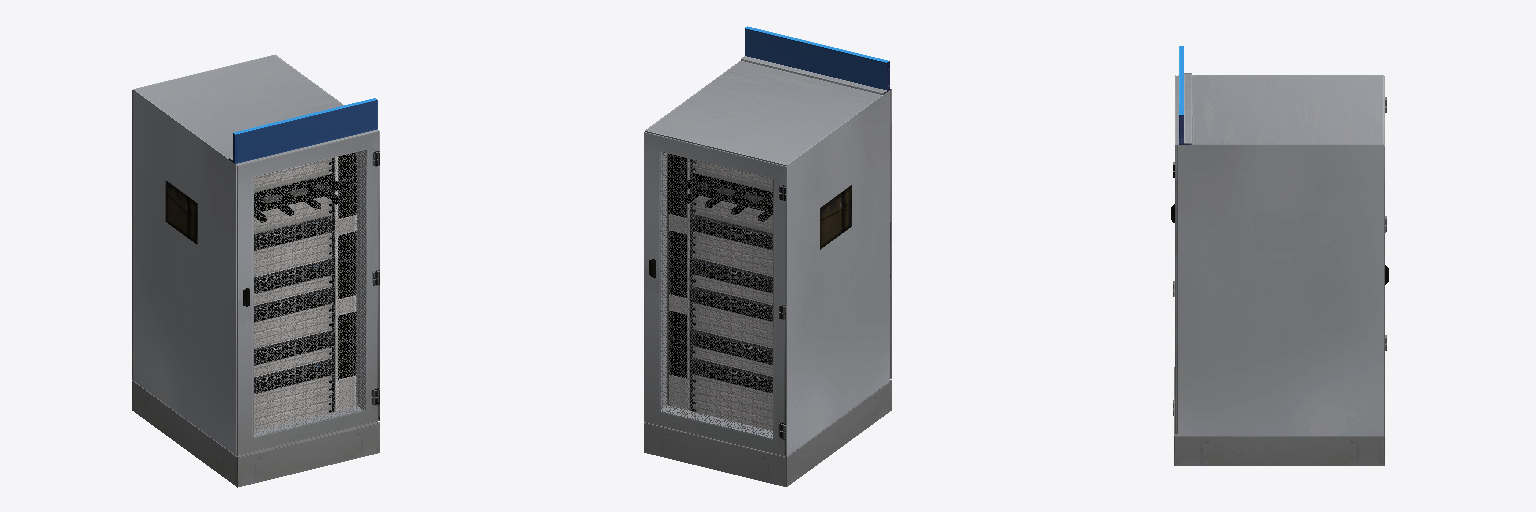
3 renders of one model, left to right at view 1: azimuth 30°, elevation 25°; view 2: azimuth 150°, elevation 25°; view 3: azimuth 270°, elevation 25°, orthographic.
Visible parts, largest first — view 1: SET8A_all; view 2: SET8A_all; view 3: SET8A_all.
Boxes of the visible parts, x1,y1,x2,y2 form: SET8A_all: [132, 55, 379, 487]; SET8A_all: [644, 26, 891, 486]; SET8A_all: [1171, 46, 1388, 465].
Size of the model in its own units: 0.927 by 2.18 by 1.23.
1 materials, 1 textured.